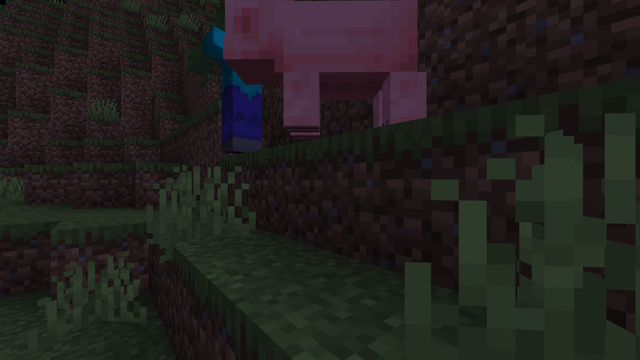cochons: (266, 8, 421, 142)
zombies: (213, 0, 261, 154)
